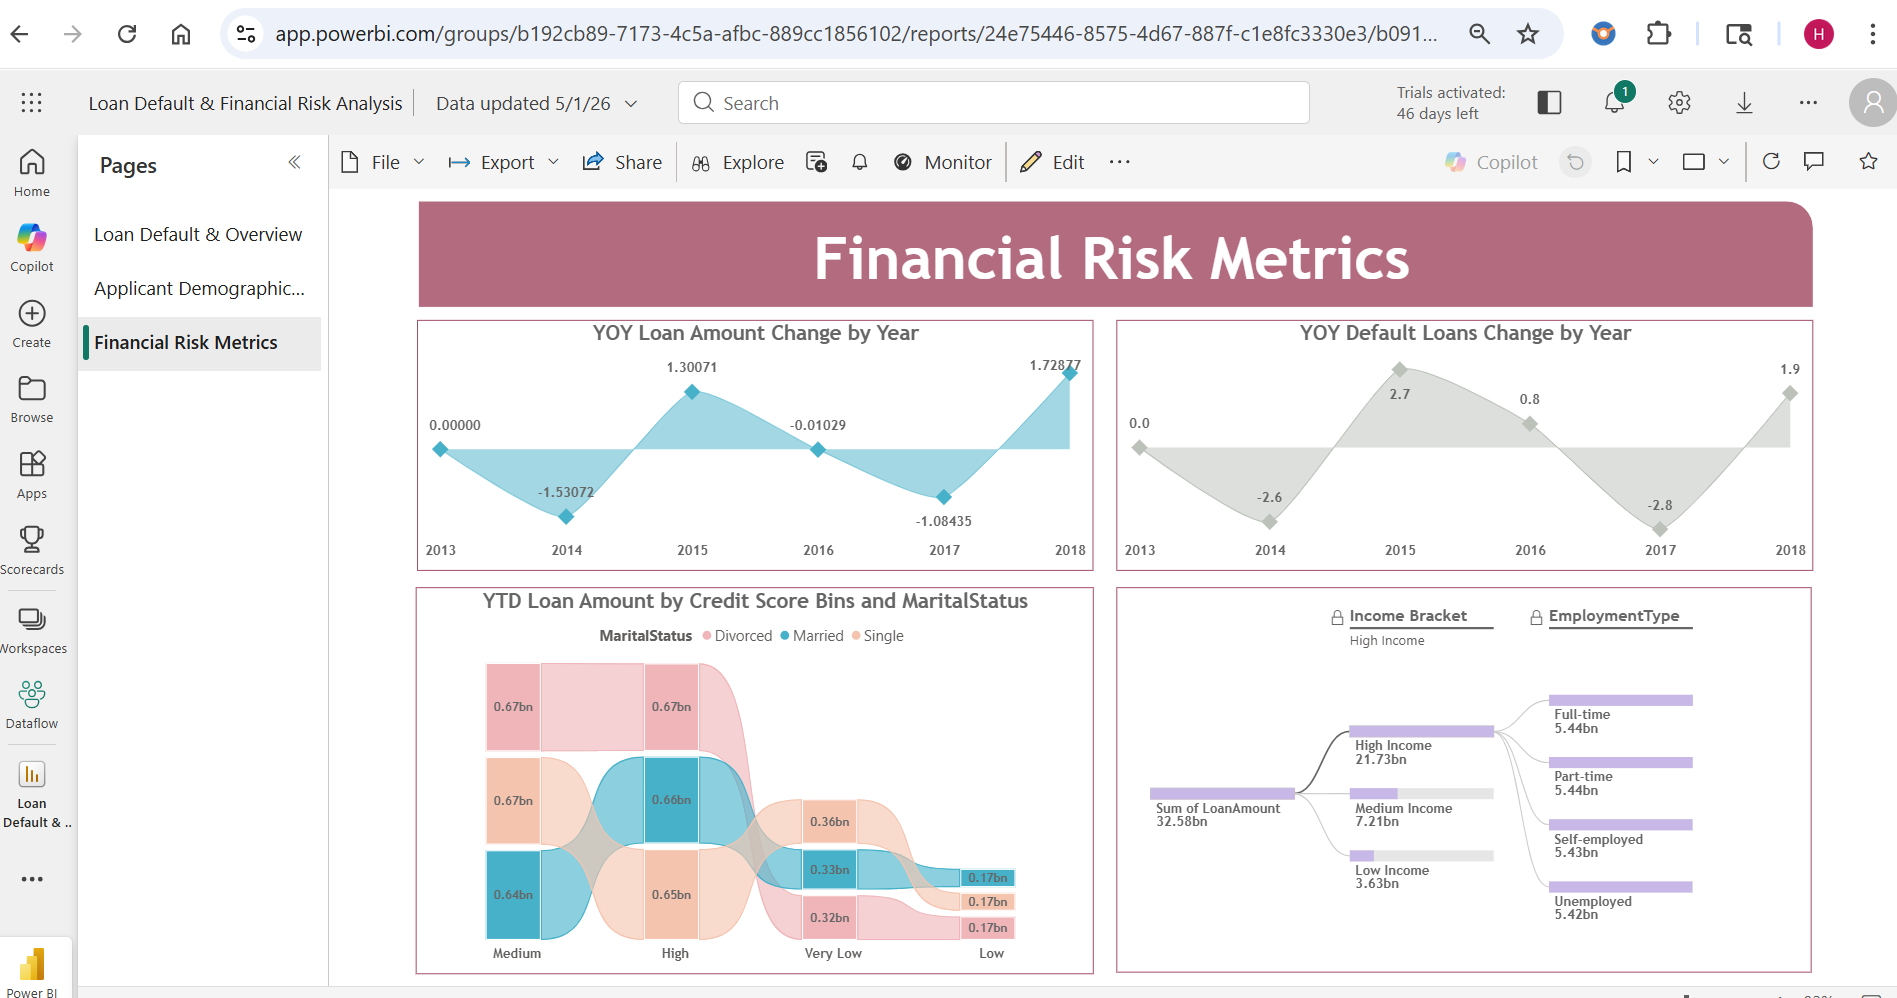

The dashboard page shown, as its layout file describes it:
{"tool":"powerbi","page":{"name":"Financial Risk Metrics","canvas":[1280,720],"ordinal":2},"visuals":[{"type":"shape","box":[8.1,11.3,1260,95.6],"z":0},{"type":"lineChart","fields":{"Y":["Measures Table3.YOY Loan Amount Change"],"Category":["Loan_default.Year"]},"box":[7.3,118.4,610.9,226.5],"z":1000},{"type":"lineChart","fields":{"Category":["Loan_default.Year"],"Y":["Measures Table3.YOY Default Loans Change"]},"box":[638.7,118.4,629.9,226.5],"z":2000},{"type":"ribbonChart","fields":{"Category":["Loan_default.Credit Score Bins"],"Series":["Loan_default.MaritalStatus"],"Y":["Measures Table3.YTD Loan Amount"]},"box":[5.8,359.5,612.4,349.3],"z":3000},{"type":"decompositionTreeVisual","fields":{"Analyze":["Sum(Loan_default.LoanAmount)"],"ExplainBy":["Loan_default.Income Bracket","Loan_default.EmploymentType"]},"box":[638.7,359.5,628.4,347.8],"z":4000}]}

Visuals, with their boxes on the page's 1280x720 design canvas (x1, y1, x2, y2). These are canvas units, not pixel positions in the 1897x998 screenshot, which may show the page scaled, cropped or inside an application window:
shape: [x1=8, y1=11, x2=1268, y2=107]
lineChart - Measures Table3.YOY Loan Amount Change x Loan_default.Year: [x1=7, y1=118, x2=618, y2=345]
lineChart - Loan_default.Year x Measures Table3.YOY Default Loans Change: [x1=639, y1=118, x2=1269, y2=345]
ribbonChart - Loan_default.Credit Score Bins x Loan_default.MaritalStatus: [x1=6, y1=360, x2=618, y2=709]
decompositionTreeVisual - Sum(Loan_default.LoanAmount) x Loan_default.Income Bracket: [x1=639, y1=360, x2=1267, y2=707]
